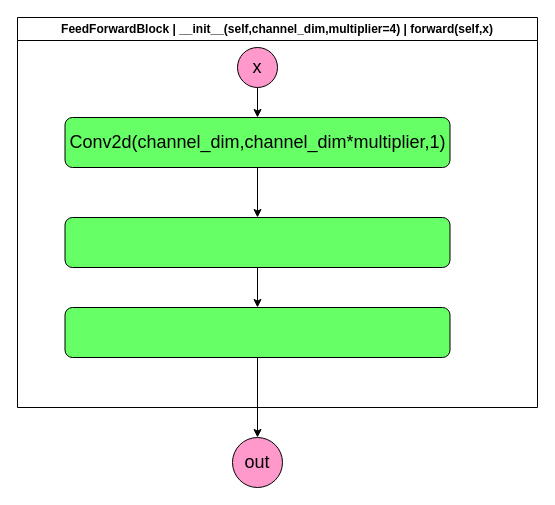
This 555x505 diagram has some shape labels left out. Each missing label, with the centre of its shape:
"Conv2d(channel_dim*multiplier,channel_dim,1)" goes at [257,332].
"SiLU()" goes at [257,242].
